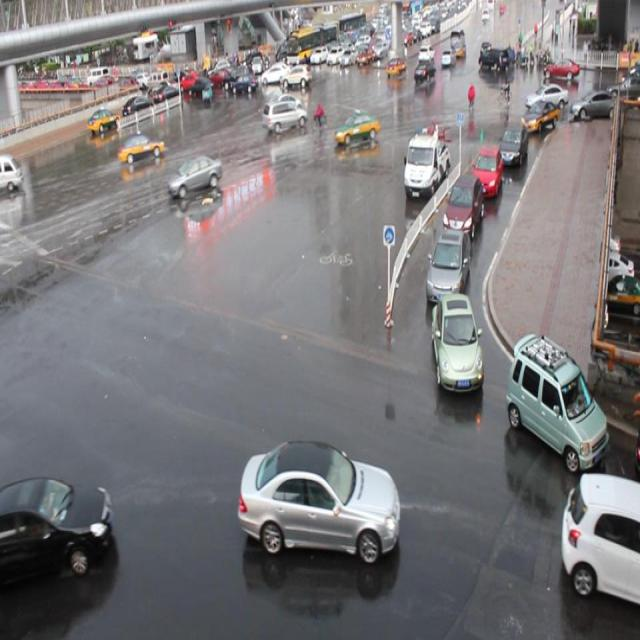bus: (402, 127, 450, 201)
car: (238, 438, 400, 560), (503, 327, 609, 472), (1, 475, 114, 583), (560, 470, 640, 604), (429, 288, 483, 390), (425, 225, 469, 301), (442, 172, 482, 235), (166, 152, 222, 195), (470, 144, 501, 197), (334, 111, 379, 145), (117, 132, 164, 162), (497, 122, 526, 168), (520, 98, 557, 134), (267, 93, 302, 116)
truck: (262, 100, 307, 132), (1, 155, 24, 191)
